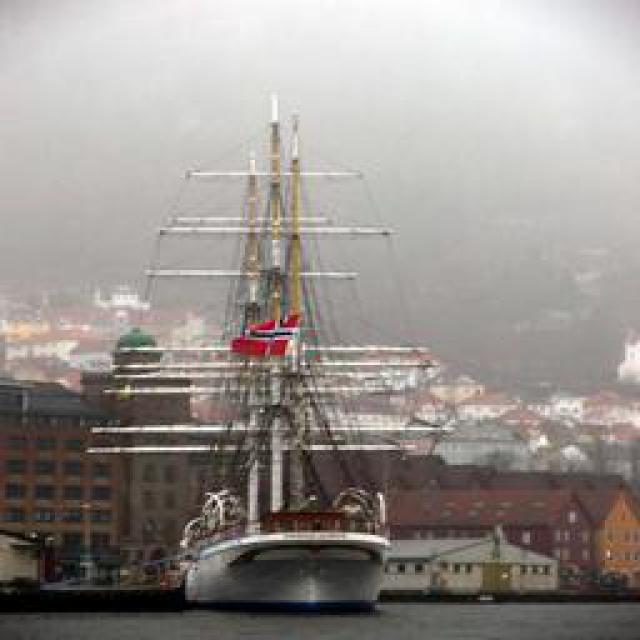Ship: (84, 105, 462, 614)
